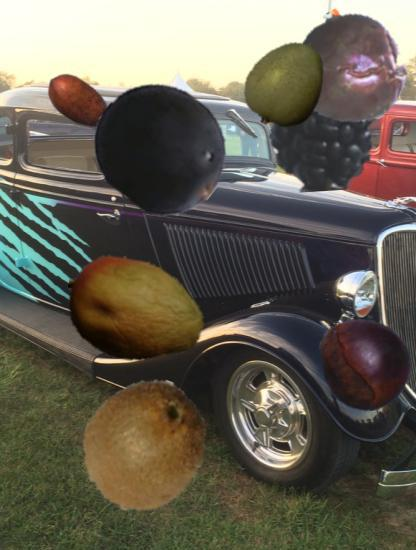Chestnut: (319, 316, 416, 413)
Grape: (93, 81, 230, 218)
Kiwi: (77, 377, 214, 514)
Mulberry: (248, 41, 398, 191)
Nut: (43, 66, 113, 136)
Papaya: (65, 239, 207, 381)
Passion: (288, 10, 406, 128)
Pear: (239, 32, 337, 130)
